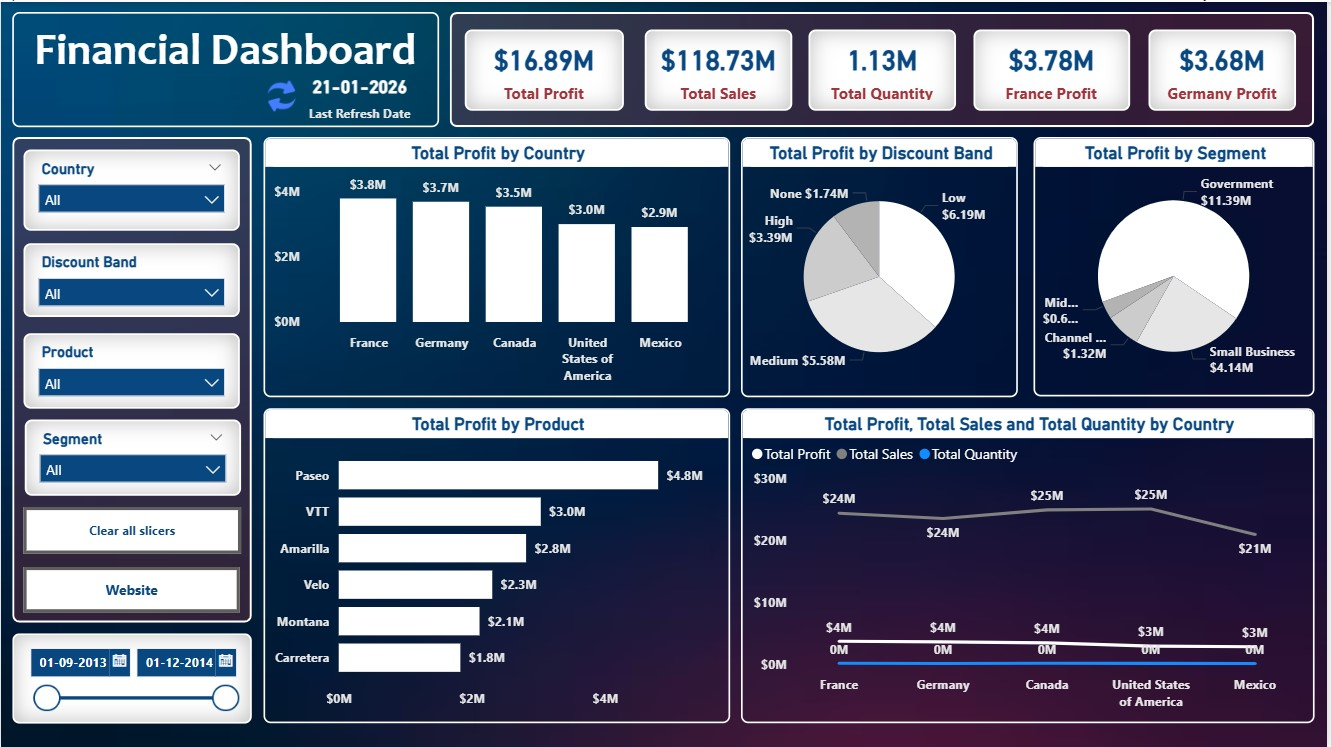

This screenshot's page, from the dashboard's own definition file:
{"tool":"powerbi","page":{"name":"Page 1","canvas":[1280,720],"ordinal":0},"visuals":[{"type":"textbox","box":[11,9.6,411.7,111.1],"z":0},{"type":"shape","box":[433.6,9.6,834.3,111.1],"z":1000},{"type":"card","fields":{"Values":["My Dax Function.Total Profit"]},"box":[447.3,26.1,153.7,78.2],"z":2000},{"type":"card","fields":{"Values":["My Dax Function.Total Sales"]},"box":[621.6,26.1,142.7,78.2],"z":3000},{"type":"card","fields":{"Values":["My Dax Function.Total Quantity"]},"box":[779.4,26.1,142.7,78.2],"z":4000},{"type":"card","fields":{"Values":["My Dax Function.France Profit"]},"box":[938.6,26.1,150.9,78.2],"z":5000},{"type":"card","fields":{"Values":["My Dax Function.Germany Profit"]},"box":[1107.4,26.1,142.7,78.2],"z":6000},{"type":"card","fields":{"Values":["My Dax Function.Last Refresh Date"]},"box":[270.3,64.5,152.3,53.5],"z":7000},{"type":"image","box":[242.9,71.4,56.3,39.8],"z":8000},{"type":"shape","box":[11.2,130,231.2,468.8],"z":9000},{"type":"slicer","fields":{"Values":["financials.Country"]},"box":[21.2,142.5,208.8,78.8],"z":10000},{"type":"slicer","fields":{"Values":["financials.Discount Band"]},"box":[21.2,232.5,208.8,71.2],"z":11000},{"type":"slicer","fields":{"Values":["financials.Product"]},"box":[21.2,320,208.8,72.5],"z":12000},{"type":"slicer","fields":{"Values":["financials.Segment"]},"box":[22.5,402.5,208.8,73.8],"z":13000},{"type":"slicer","fields":{"Values":["financials.Date"]},"box":[11.2,608.8,231.2,87.5],"z":14000},{"type":"clusteredColumnChart","fields":{"Category":["financials.Country"],"Y":["My Dax Function.Total Profit"]},"box":[253.4,130.3,450,250.9],"z":15000},{"type":"clusteredBarChart","fields":{"Y":["My Dax Function.Total Profit"],"Category":["financials.Product"]},"box":[253.8,392.5,450,303.8],"z":16000},{"type":"pieChart","fields":{"Category":["financials.Discount Band"],"Y":["My Dax Function.Total Profit"]},"box":[713.8,130,267.5,251.2],"z":17000},{"type":"pieChart","fields":{"Category":["financials.Segment"],"Y":["My Dax Function.Total Profit"]},"box":[996.2,130,271.2,250],"z":18000},{"type":"lineChart","fields":{"Category":["financials.Country"],"Y":["My Dax Function.Total Profit","My Dax Function.Total Sales","My Dax Function.Total Quantity"]},"box":[713.8,392.5,553.8,303.8],"z":18001},{"type":"actionButton","box":[21.2,487.5,210,45],"z":18002},{"type":"actionButton","box":[21.2,545,208.8,43.8],"z":18003}]}

Visuals, with their boxes in screenshot pixels (x1, y1, x2, y2), scaled from the page's 1280x720 canvas onto the 1331x747 screenshot:
textbox: 11:10:440:125
shape: 451:10:1318:125
card - My Dax Function.Total Profit: 465:27:625:108
card - My Dax Function.Total Sales: 646:27:795:108
card - My Dax Function.Total Quantity: 810:27:959:108
card - My Dax Function.France Profit: 976:27:1133:108
card - My Dax Function.Germany Profit: 1152:27:1300:108
card - My Dax Function.Last Refresh Date: 281:67:439:122
image: 253:74:311:115
shape: 12:135:252:621
slicer - financials.Country: 22:148:239:230
slicer - financials.Discount Band: 22:241:239:315
slicer - financials.Product: 22:332:239:407
slicer - financials.Segment: 23:418:241:494
slicer - financials.Date: 12:632:252:722
clusteredColumnChart - financials.Country x My Dax Function.Total Profit: 263:135:731:395
clusteredBarChart - My Dax Function.Total Profit x financials.Product: 264:407:732:722
pieChart - financials.Discount Band x My Dax Function.Total Profit: 742:135:1020:395
pieChart - financials.Segment x My Dax Function.Total Profit: 1036:135:1318:394
lineChart - financials.Country x My Dax Function.Total Profit: 742:407:1318:722
actionButton: 22:506:240:552
actionButton: 22:565:239:611
